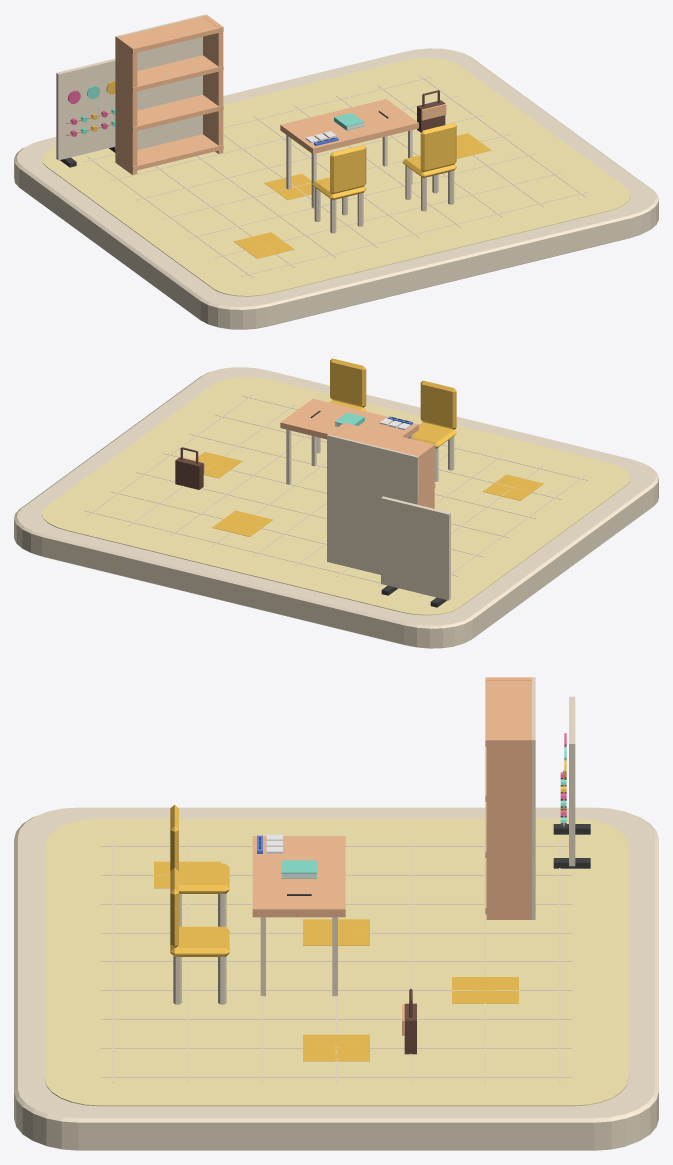
The model's file is room.fbx.
3 views of the same model, one above another, from view 1: azimuth 30°, elevation 25°; view 2: azimuth 150°, elevation 25°; view 3: azimuth 270°, elevation 25° (orthographic). The views are drawn at different scales.
Parts seen in each view (by area): view 1: COM-02 Floor Surface, COM-01 Rounded Base Direct, Panel, Top, Back, Side, Side.001, Shelf.003, Shelf, Shelf.001, Shelf.002, Backrest (+8 smaller); view 2: COM-02 Floor Surface, COM-01 Rounded Base Direct, Back, Panel, Top, Backrest, Backrest.001, Shelf.003, Side, Bag, Geometric color tile.002, Geometric color tile (+2 smaller); view 3: COM-02 Floor Surface, COM-01 Rounded Base Direct, Top, Side.001, Shelf.003, Geometric color tile.003, Geometric color tile.002, Geometric color tile.001, Seat.001, Seat, Panel, Back (+5 smaller).
Boxes of the visible parts, x1,y1,x2,y2 form: COM-02 Floor Surface: [42, 58, 630, 296]; COM-01 Rounded Base Direct: [14, 48, 658, 329]; Panel: [56, 58, 115, 160]; Top: [280, 99, 418, 208]; Back: [115, 14, 206, 162]; Side: [116, 35, 137, 174]; Side.001: [203, 15, 223, 153]; Shelf.003: [122, 16, 223, 53]; Shelf: [120, 134, 223, 171]; Shelf.001: [116, 94, 223, 131]; Shelf.002: [115, 55, 223, 92]; Backrest: [330, 145, 366, 194]; COM-02 Floor Surface: [42, 377, 630, 615]; COM-01 Rounded Base Direct: [14, 367, 658, 648]; Back: [327, 434, 418, 574]; Panel: [381, 496, 450, 600]; Top: [280, 398, 418, 484]; Backrest: [420, 380, 456, 429]; Backrest.001: [330, 358, 366, 407]; Shelf.003: [333, 422, 435, 461]; Side: [414, 444, 434, 508]; Bag: [175, 447, 204, 489]; Geometric color tile.002: [212, 510, 272, 536]; Geometric color tile: [483, 474, 543, 500]; COM-02 Floor Surface: [44, 818, 628, 1106]; COM-01 Rounded Base Direct: [14, 807, 658, 1150]; Top: [252, 836, 345, 996]; Side.001: [486, 737, 533, 919]; Shelf.003: [485, 677, 534, 746]; Geometric color tile.003: [303, 1034, 369, 1061]; Geometric color tile.002: [452, 977, 518, 1003]; Geometric color tile.001: [303, 919, 369, 945]; Seat.001: [170, 926, 229, 956]; Seat: [179, 863, 229, 893]; Panel: [569, 696, 575, 866]; Back: [532, 677, 535, 919].
Size of the model in its own units: 600 by 190 by 520.
